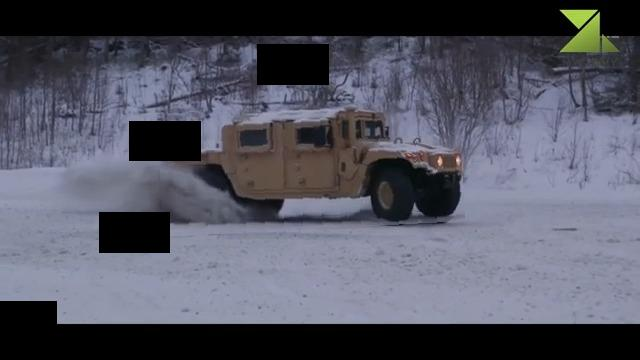MIL_HMMWV: (159, 102, 464, 233)
